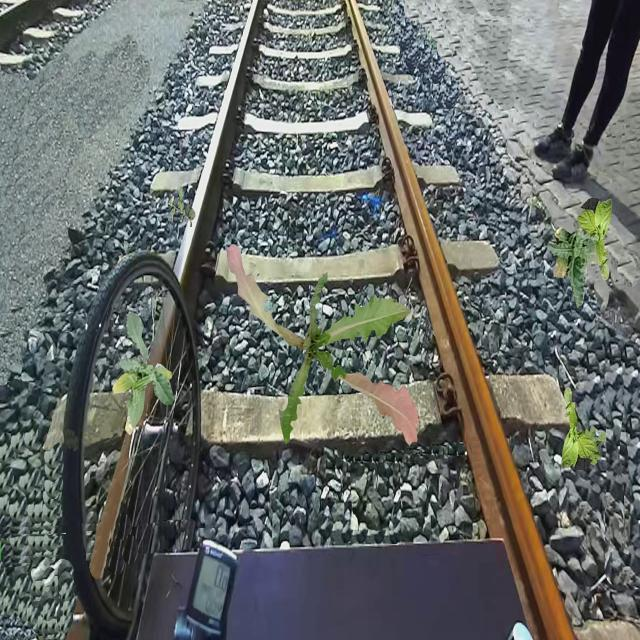Plant: (227, 244, 420, 446), (112, 311, 174, 436), (547, 227, 610, 310), (577, 197, 612, 280), (561, 387, 596, 470), (168, 186, 196, 227), (583, 425, 607, 466)
